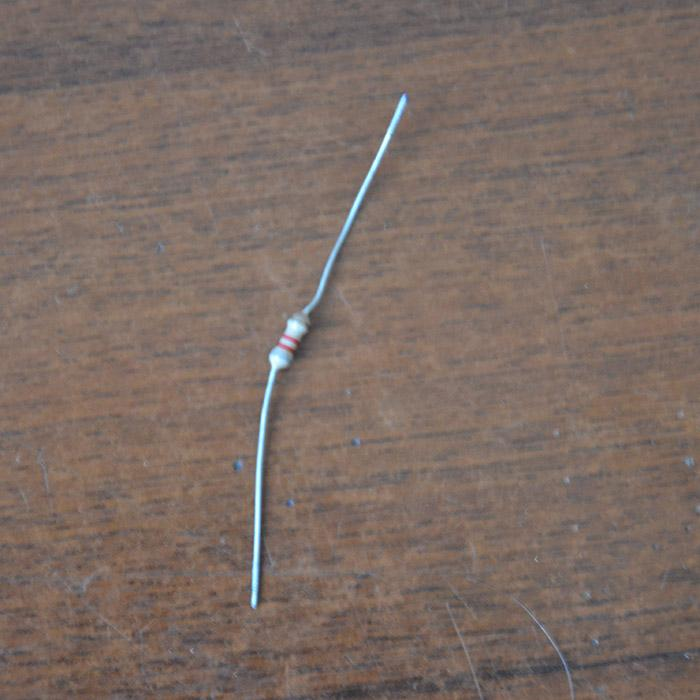resistor: (269, 312, 311, 370)
